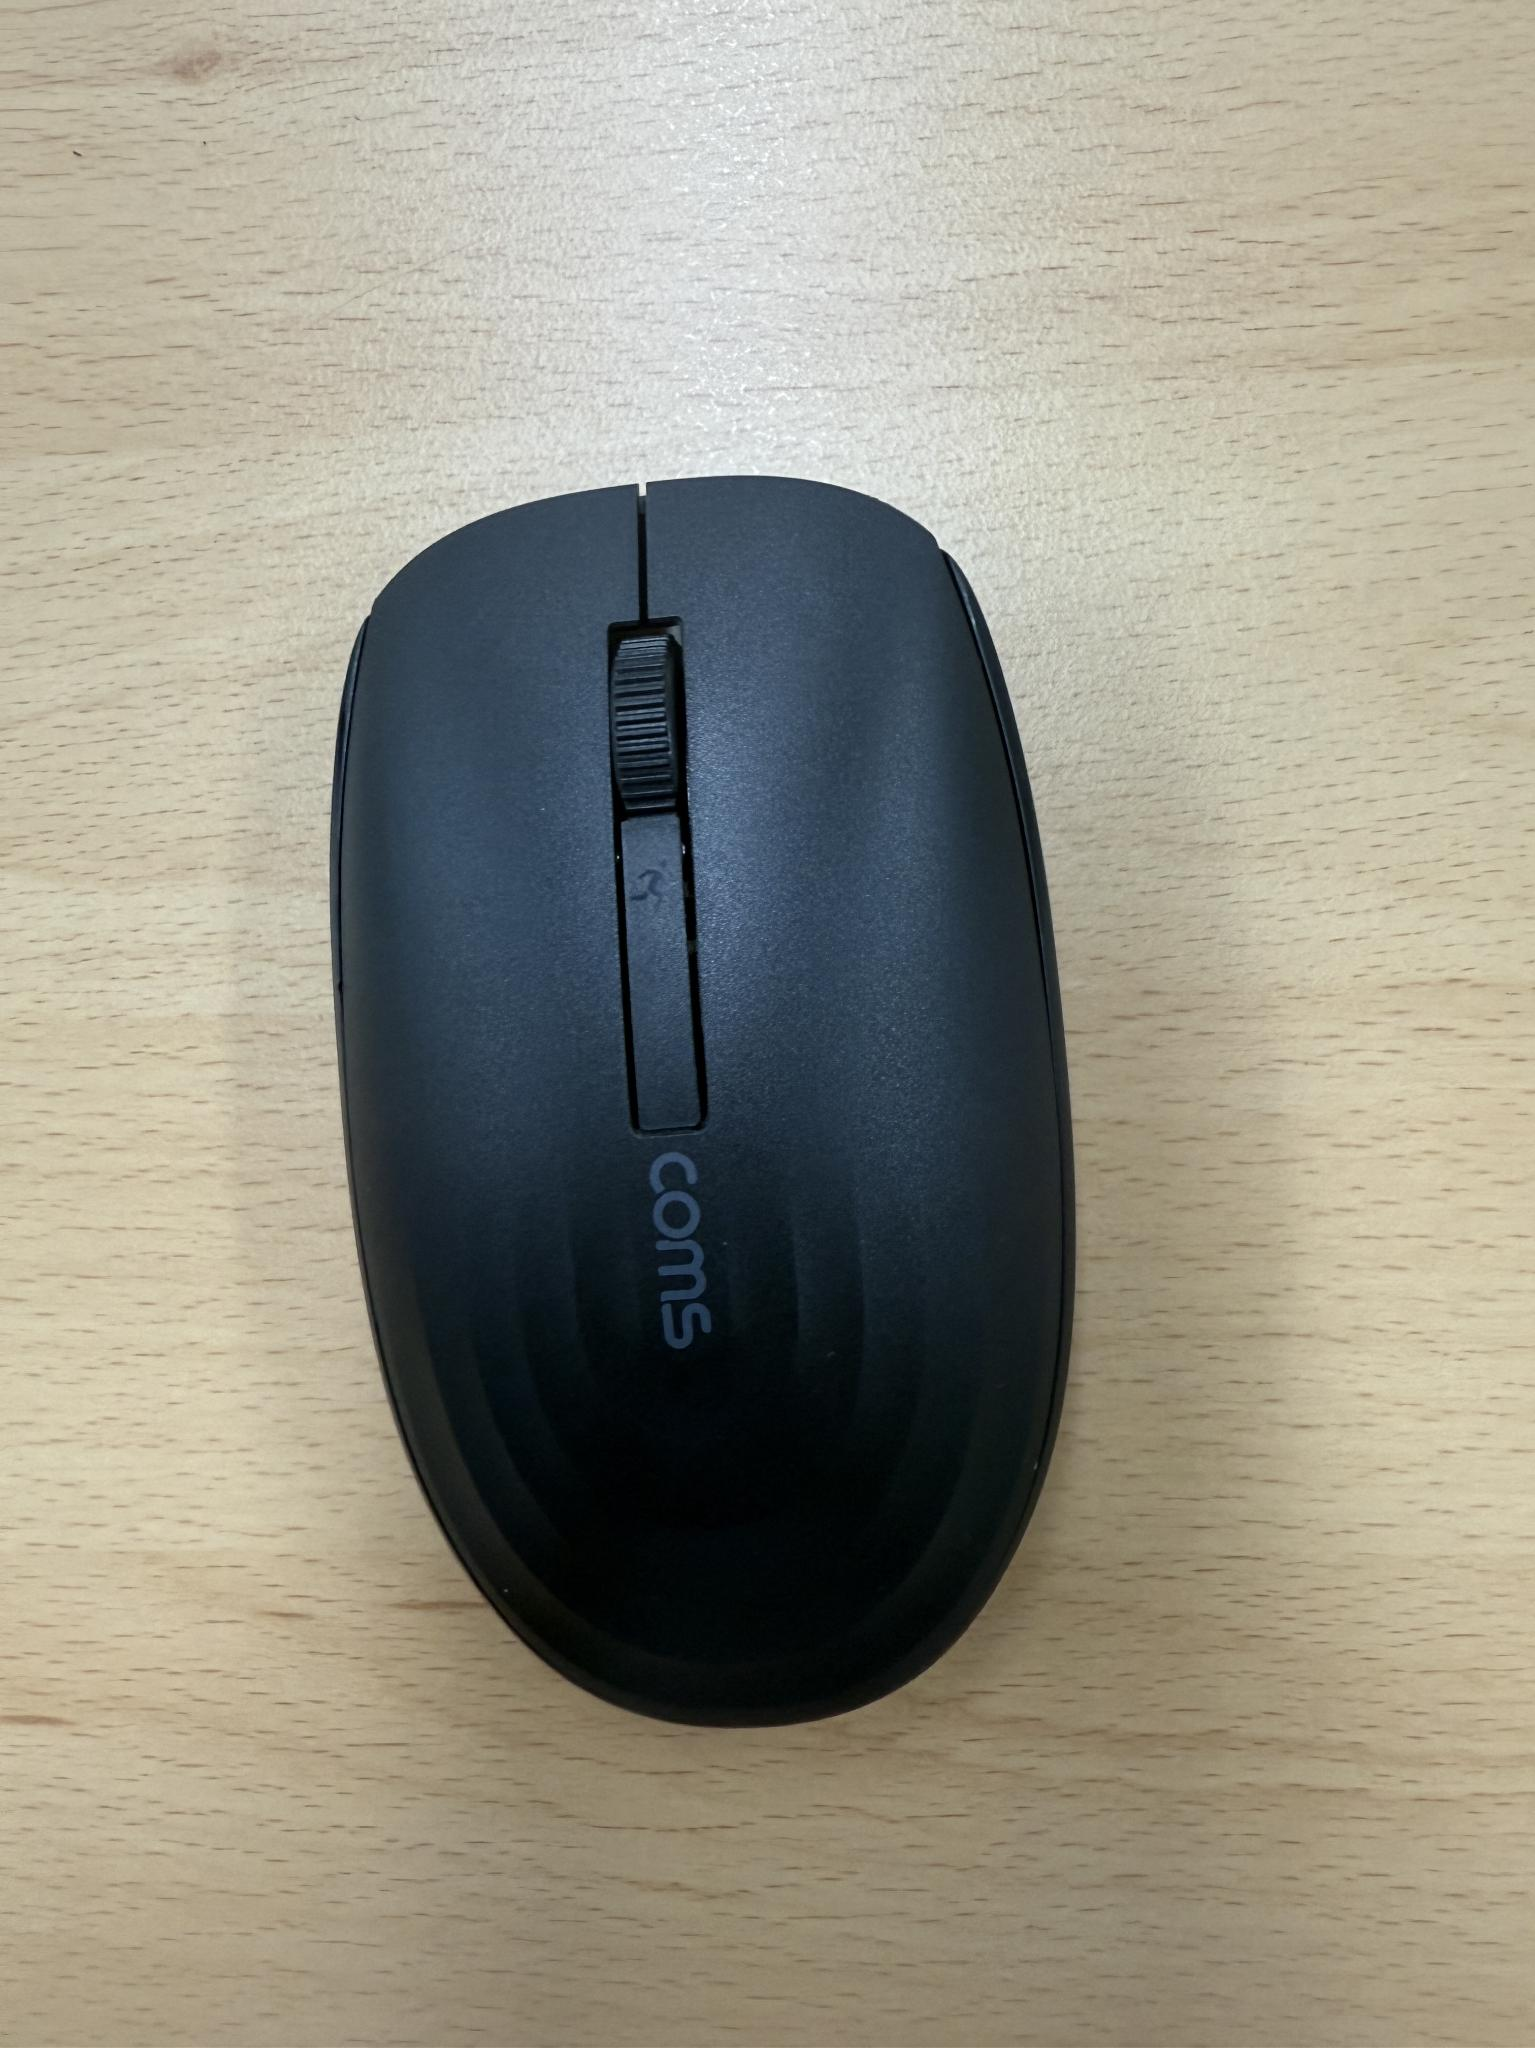front: (326, 469, 1082, 1730)
